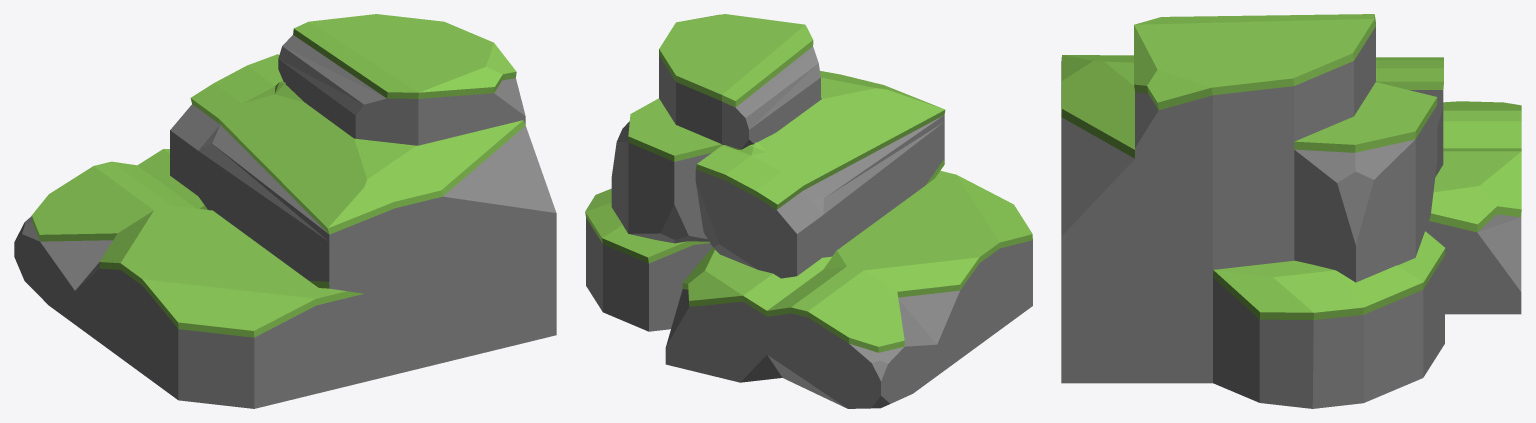
Rendered from stones01_top_grass.fbx.
3 views of the same model, side by side, from view 1: azimuth 30°, elevation 25°; view 2: azimuth 150°, elevation 25°; view 3: azimuth 270°, elevation 25° (orthographic). The views are drawn at different scales.
Parts seen in each view (by area): view 1: stones01_top_grass_LOD0; view 2: stones01_top_grass_LOD0; view 3: stones01_top_grass_LOD0.
Part boxes in pixels (x1,y1,x2,y2): stones01_top_grass_LOD0: [14, 14, 556, 408]; stones01_top_grass_LOD0: [585, 14, 1032, 408]; stones01_top_grass_LOD0: [1061, 14, 1521, 408].
Size of what is drawn, in the model's own units: 174 by 104 by 146.
